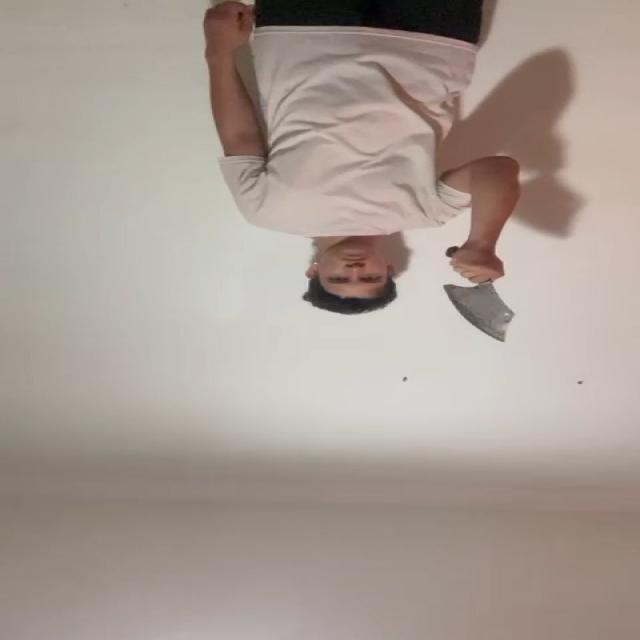knife: (444, 284, 520, 346)
